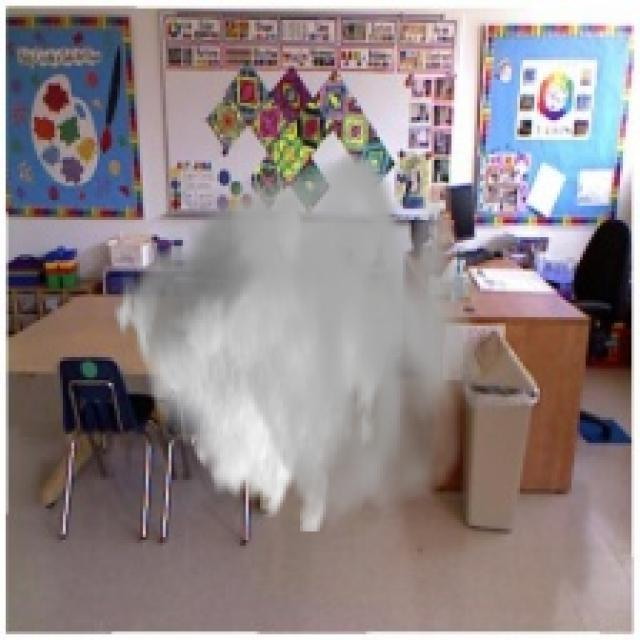Smoke: (111, 146, 483, 532)
